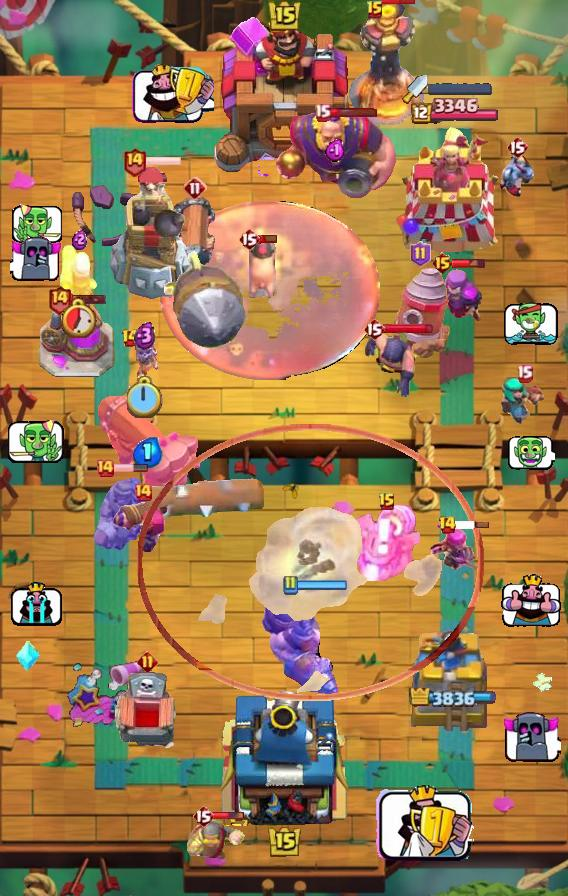bar: (394, 126, 512, 256)
battle-healer: (171, 193, 219, 275)
electro-dragon: (348, 0, 426, 128)
electro-spirit: (133, 436, 163, 467), (134, 322, 156, 350), (325, 139, 346, 162), (73, 229, 87, 251)
elixir: (127, 376, 163, 418), (62, 298, 98, 339)
elixir-golem-mid: (112, 671, 182, 757)
emote: (383, 321, 434, 334), (328, 106, 378, 118), (296, 580, 347, 590), (145, 155, 182, 167), (70, 293, 107, 305), (453, 257, 488, 269), (113, 463, 149, 473), (454, 520, 490, 530), (211, 811, 245, 821), (258, 232, 278, 244), (382, 0, 417, 6)
evolution-symbol: (430, 521, 488, 579)
executioner: (246, 236, 278, 300)
firecracker: (186, 816, 246, 861)
furnace: (95, 391, 201, 497)
goblin: (129, 338, 161, 378)
king-tower: (211, 7, 357, 181), (214, 684, 354, 826)
king-tower-bar: (428, 83, 492, 95)
lightning: (271, 109, 400, 201)
magic-archer: (390, 265, 450, 359)
mega-minion: (109, 497, 177, 553)
minion: (140, 474, 266, 524)
monk: (363, 330, 417, 400)
night-witch: (346, 505, 428, 581)
pad_2: (15, 640, 41, 672)
pekka: (37, 297, 115, 379)
phoenix-egg: (159, 200, 381, 380)
queen-tower: (403, 621, 503, 731)
ram-rider: (91, 471, 153, 553)
rascal-girl: (429, 268, 483, 326)
royal-delivery: (497, 154, 537, 198)
royal-ghost: (137, 423, 484, 700)
selected: (408, 98, 498, 126), (409, 689, 497, 707)
skeleton: (374, 784, 475, 864), (130, 62, 214, 126), (501, 574, 561, 628), (501, 710, 561, 763), (6, 414, 65, 465), (9, 579, 62, 627), (9, 234, 62, 281), (9, 200, 62, 246), (505, 302, 560, 346), (507, 435, 555, 471)
text: (121, 147, 146, 178), (48, 284, 73, 315), (183, 176, 207, 200), (430, 251, 454, 275), (410, 241, 431, 267), (506, 135, 528, 159), (238, 227, 260, 251), (363, 317, 385, 341), (192, 804, 214, 828), (137, 651, 158, 672), (95, 458, 115, 478), (133, 482, 153, 502), (120, 328, 139, 348), (438, 515, 457, 535), (366, 0, 384, 20), (378, 492, 396, 512), (515, 365, 532, 384), (282, 575, 298, 595), (313, 103, 330, 121)
tombstone: (58, 242, 100, 300)
witch: (500, 377, 548, 427)
wizard: (259, 583, 341, 697)
x-bow: (157, 250, 248, 349)
zappy: (107, 164, 194, 302)
